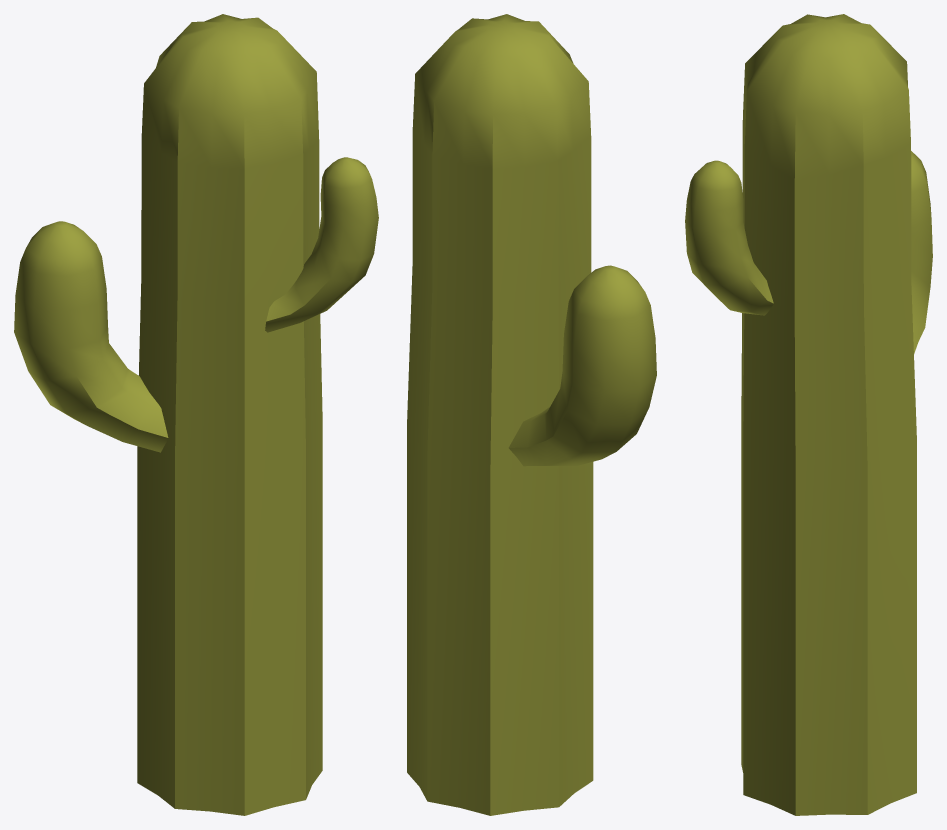
Rendered from MoyenCactusfbx.fbx.
3 views of the same model, side by side, from view 1: azimuth 30°, elevation 25°; view 2: azimuth 150°, elevation 25°; view 3: azimuth 270°, elevation 25° (orthographic).
Parts seen in each view (by area): view 1: Cylinder.104, Cylinder.105, Cylinder.106; view 2: Cylinder.104, Cylinder.105; view 3: Cylinder.104, Cylinder.106, Cylinder.105.
Boxes of the visible parts, x1,y1,x2,y2 form: Cylinder.104: [137, 14, 322, 815]; Cylinder.105: [14, 221, 168, 452]; Cylinder.106: [265, 157, 378, 332]; Cylinder.104: [407, 14, 593, 815]; Cylinder.105: [508, 265, 656, 466]; Cylinder.104: [741, 14, 916, 815]; Cylinder.106: [685, 160, 773, 315]; Cylinder.105: [911, 151, 932, 353].
Size of the model in its own units: 142 by 383 by 114.
